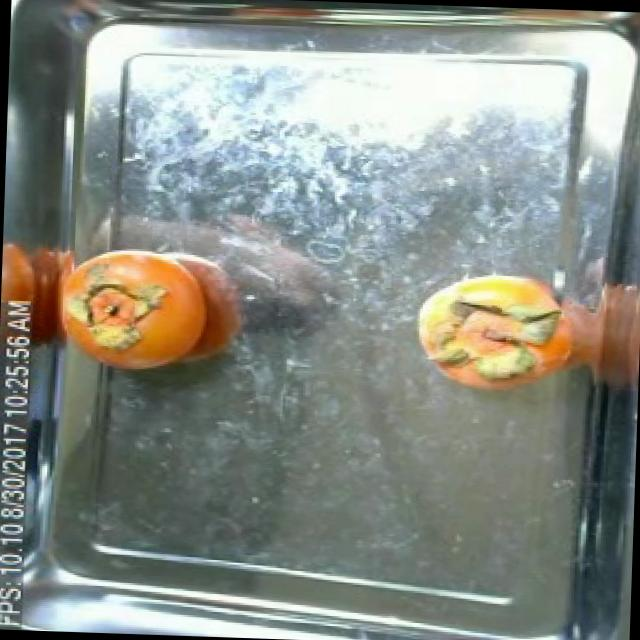Fruit: (397, 251, 578, 407)
